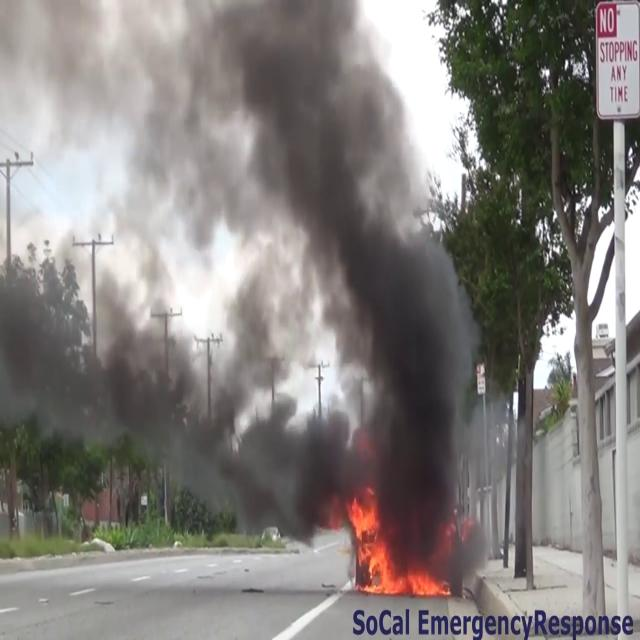Fire: (344, 488, 449, 602)
Smoke: (0, 0, 478, 550)
